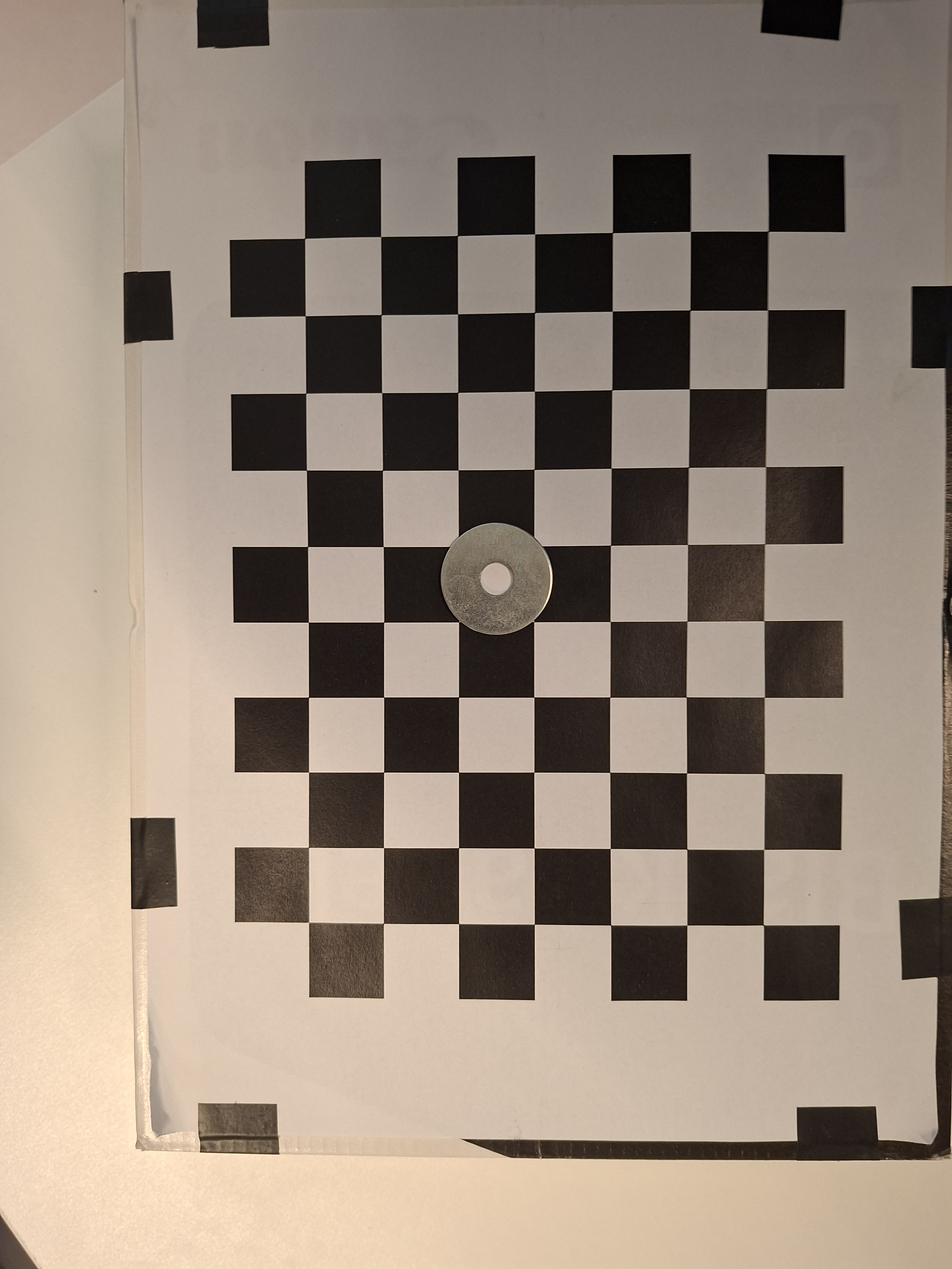washer: (438, 520, 570, 642)
